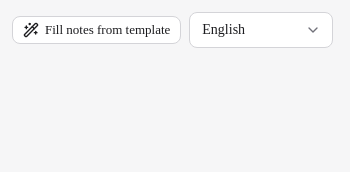
QuotationNotesHelper (4 Nov 2026: house notes template) › needs lines before it can fill
Step 1. Click the button "Fill notes from template" → point(97, 30), box x1=12 y1=16 x2=181 y2=44
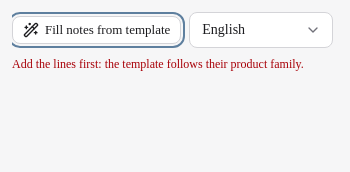
Result: the text "Add the lines first" is shown at x1=12 y1=57 x2=304 y2=71
